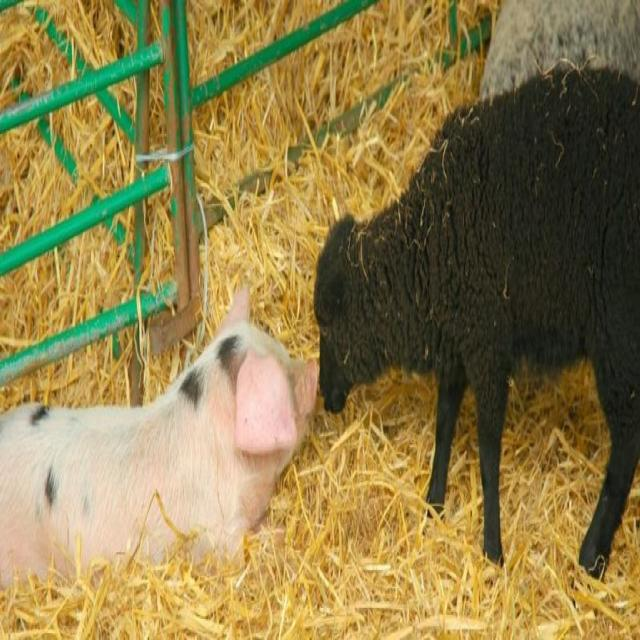Sheep: (311, 63, 640, 580)
